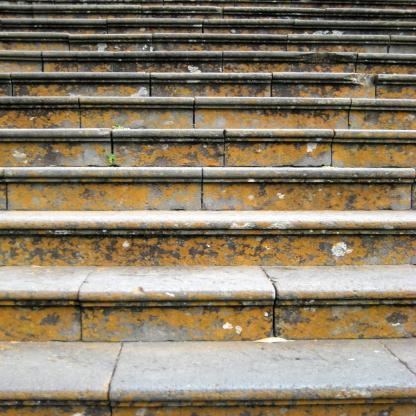stair: (0, 0, 416, 410)
